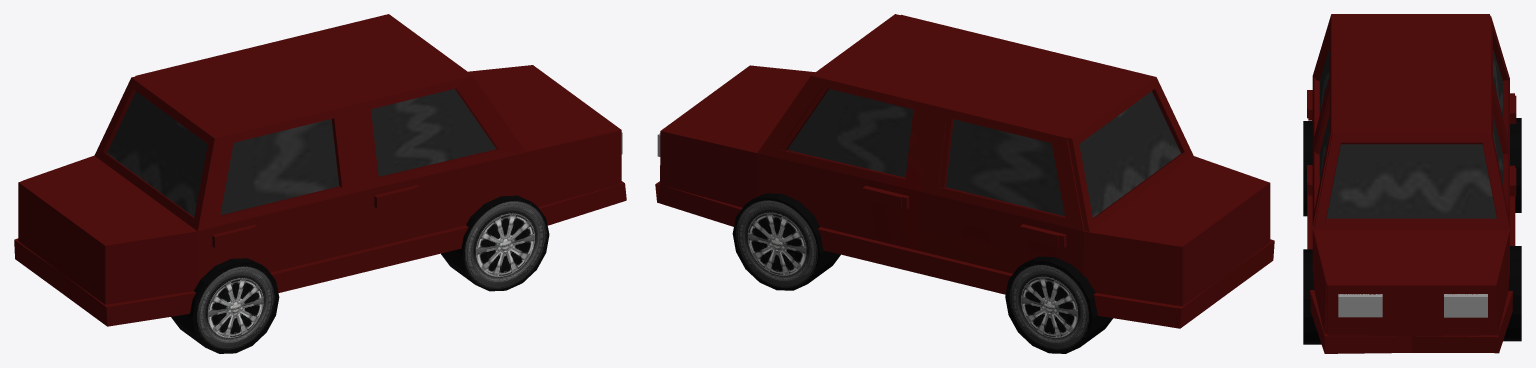
The model's file is JaceCar.glb.
3 renders of one model, left to right at view 1: azimuth 30°, elevation 25°; view 2: azimuth 150°, elevation 25°; view 3: azimuth 270°, elevation 25°, orthographic. The views are drawn at different scales.
Parts seen in each view (by area): view 1: Cube.001; view 2: Cube.001; view 3: Cube.001.
Part boxes in pixels (x1,y1,x2,y2): Cube.001: [14, 14, 626, 353]; Cube.001: [655, 14, 1274, 353]; Cube.001: [1303, 14, 1521, 353].
Bounding box in the file's own units: 5.57 × 2.12 × 2.11.
3 materials, 3 textured.
